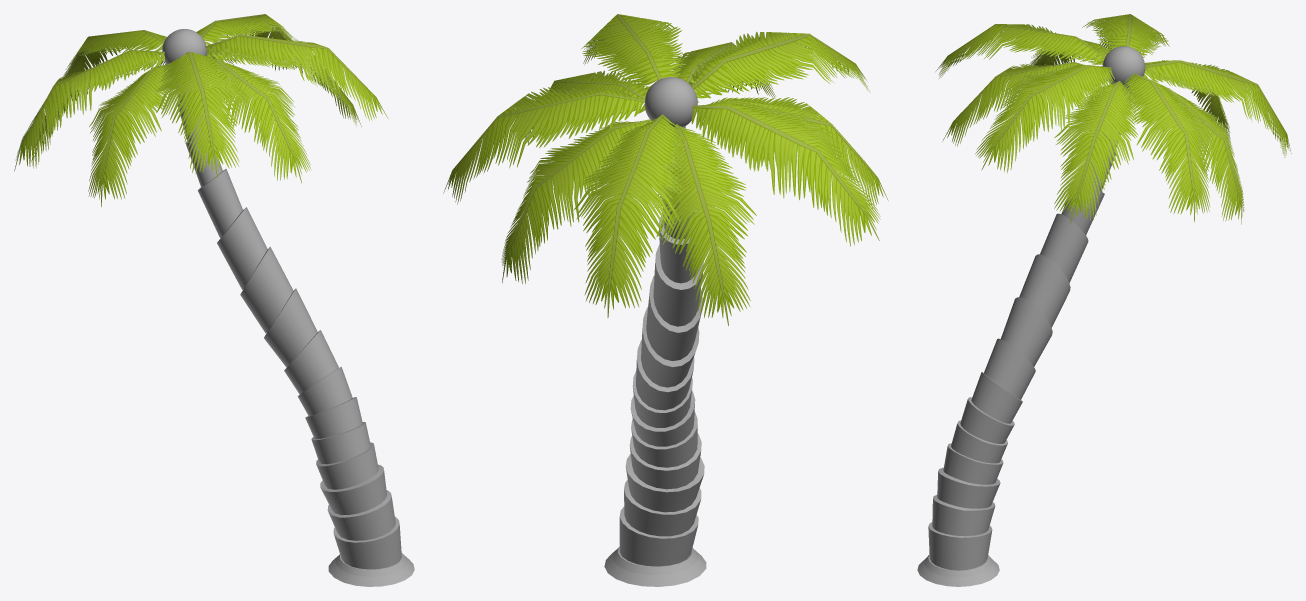
Rendered from envMesh_Islands_Tree_Palm1.FBX.fbx.
3 renders of one model, left to right at view 1: azimuth 30°, elevation 25°; view 2: azimuth 150°, elevation 25°; view 3: azimuth 270°, elevation 25°, orthographic. The views are drawn at different scales.
Visible parts, largest first — view 1: Leaf100, Trunk1, Balm5; view 2: Leaf100, Trunk1, Balm5; view 3: Leaf100, Trunk1, Balm5.
Part boxes in pixels (x1,y1,x2,y2): Leaf100: [14, 14, 388, 206]; Trunk1: [177, 86, 414, 586]; Balm5: [162, 29, 206, 64]; Leaf100: [443, 14, 888, 325]; Trunk1: [604, 126, 706, 586]; Balm5: [644, 77, 697, 129]; Leaf100: [935, 14, 1291, 224]; Trunk1: [917, 89, 1132, 586]; Balm5: [1102, 46, 1145, 88].
Bounding box in the file's own units: 3.76 × 5.48 × 3.9.
Materials: 2 (1 with a texture image).
